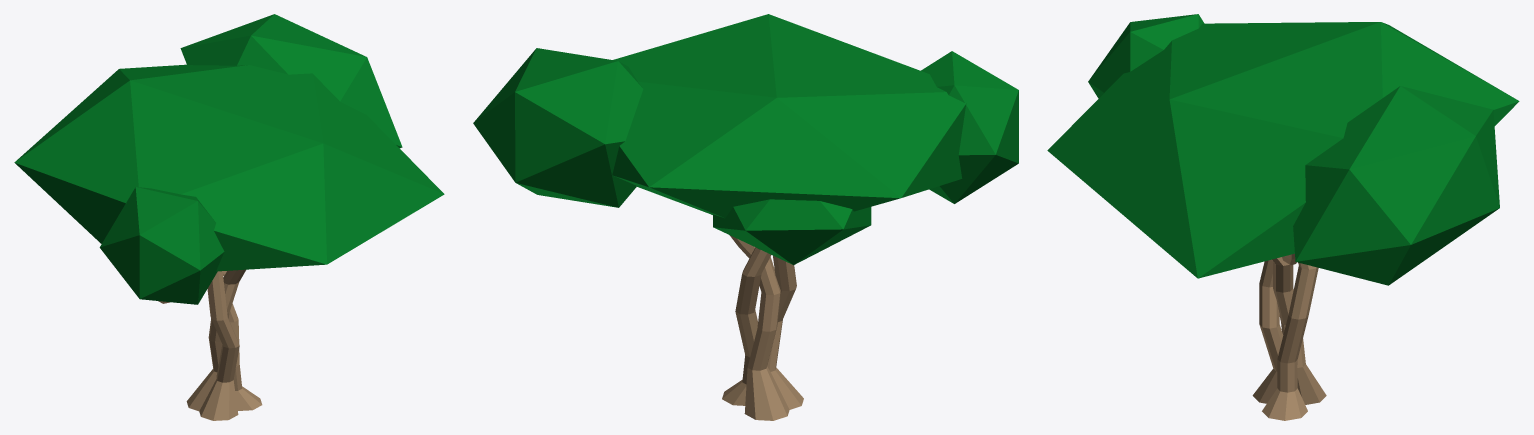
Rendered from TT_Indian_Tree.fbx.
The picture shows the model from 3 angles, left to right: view 1: azimuth 30°, elevation 25°; view 2: azimuth 150°, elevation 25°; view 3: azimuth 270°, elevation 25°; orthographic projection. The views are drawn at different scales.
Parts seen in each view (by area): view 1: Tree; view 2: Tree; view 3: Tree.
Part boxes in pixels (left/top/right/bottom): Tree: left=14, top=14, right=444, bottom=420; Tree: left=473, top=14, right=1018, bottom=420; Tree: left=1047, top=14, right=1519, bottom=420.
Size of the model in its own units: 588 by 488 by 583.
